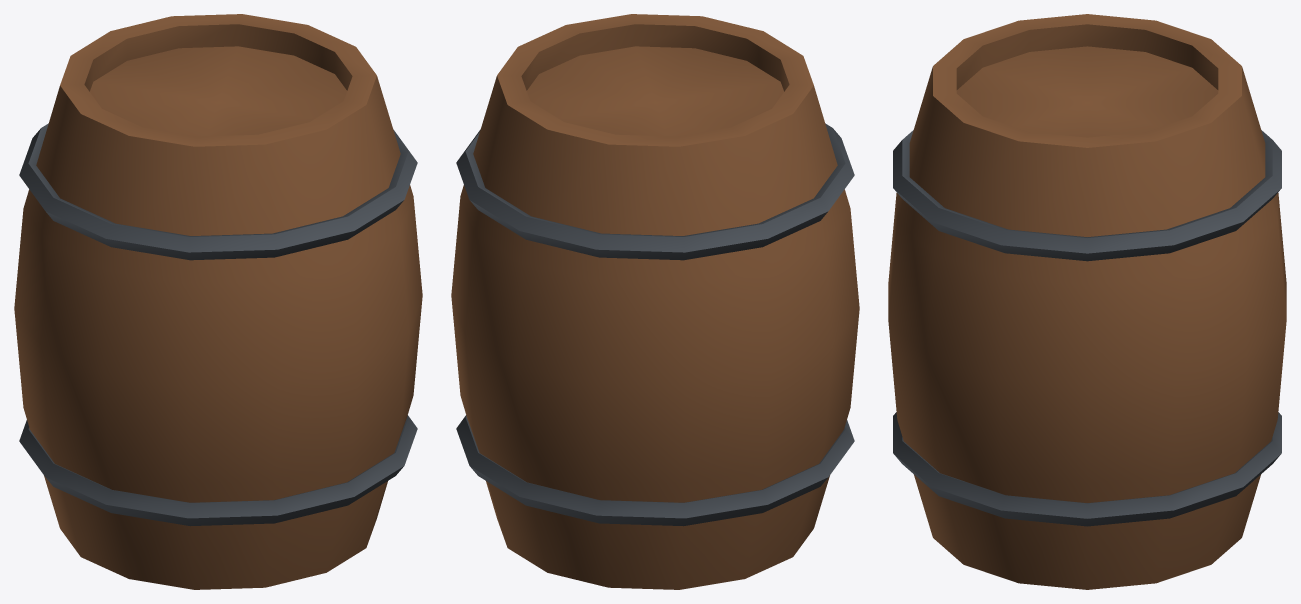
File: barrel.glb
The picture shows the model from 3 angles, left to right: view 1: azimuth 30°, elevation 25°; view 2: azimuth 150°, elevation 25°; view 3: azimuth 270°, elevation 25°; orthographic projection.
Parts seen in each view (by area): view 1: Barrel; view 2: Barrel; view 3: Barrel.
Part boxes in pixels (left/top/right/bottom): Barrel: left=14, top=14, right=422, bottom=589; Barrel: left=451, top=14, right=859, bottom=589; Barrel: left=888, top=14, right=1286, bottom=589.
Bounding box in the file's own units: 0.67 × 0.8 × 0.6532.
